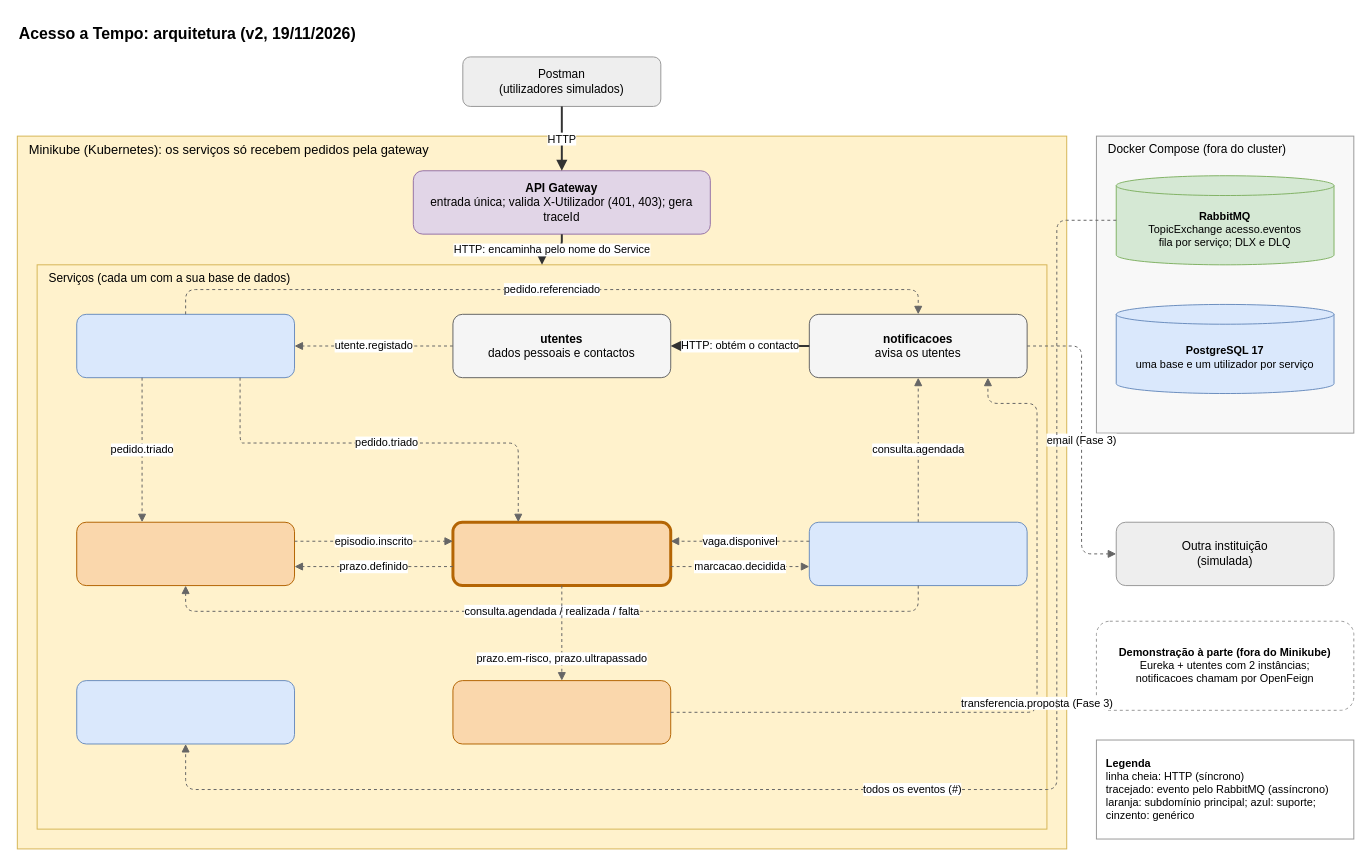
Some shapes in this 1371 by 866 pixel diagram are drawn without their labels. The centre of each missing label's shape, as x and y in pixels:
"agendamento agendas, vagas, marcações" goes at pixel 917 553.
"garantia-acesso trata cada caso por níveis" goes at pixel 561 712.
"gestao-acesso (pivô) prazos, alarmes, relógio; marca por prioridade" goes at pixel 561 553.
"historico todos os eventos de cada episódio; auditoria" goes at pixel 185 712.
"lista-espera estado atual do episódio" goes at pixel 185 553.
"referenciacao recebe pedidos e triagem; cópia local de NUS" goes at pixel 185 345.
